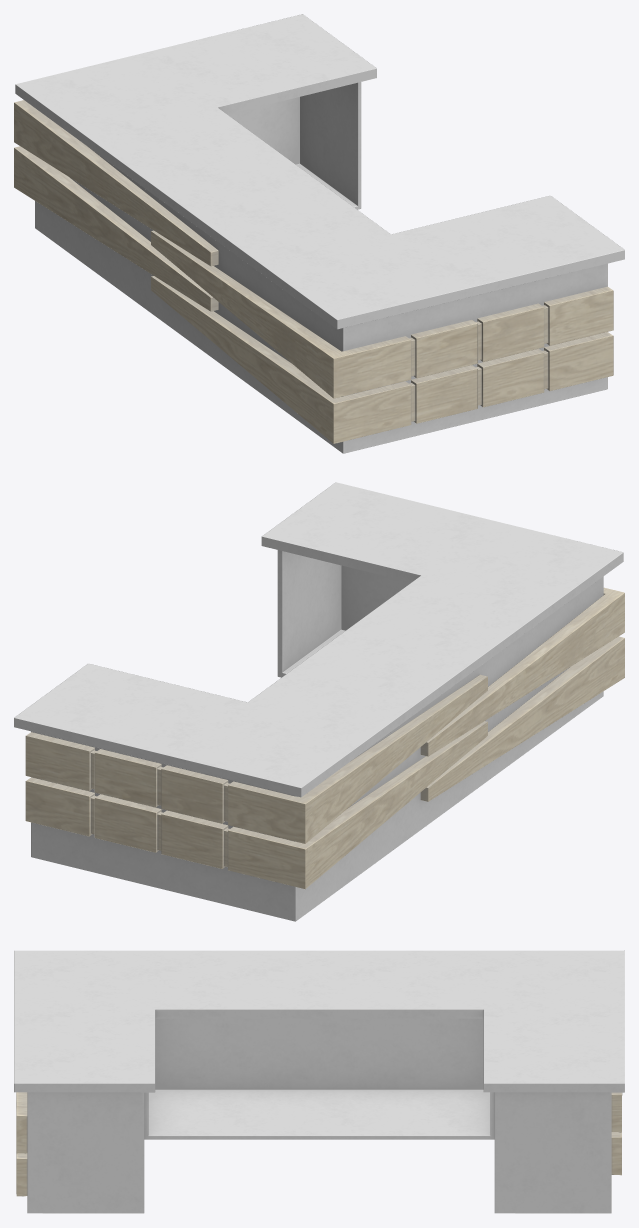
Rendered from SM_ReceptionDeskS.fbx.
3 views of the same model, one above another, from view 1: azimuth 30°, elevation 25°; view 2: azimuth 150°, elevation 25°; view 3: azimuth 270°, elevation 25° (orthographic). The views are drawn at different scales.
Parts seen in each view (by area): view 1: SM_ReceptionDeskS_LOD0; view 2: SM_ReceptionDeskS_LOD0; view 3: SM_ReceptionDeskS_LOD0.
Part boxes in pixels (left/top/right/bottom): SM_ReceptionDeskS_LOD0: left=14, top=14, right=624, bottom=453; SM_ReceptionDeskS_LOD0: left=14, top=482, right=624, bottom=921; SM_ReceptionDeskS_LOD0: left=14, top=950, right=624, bottom=1213.
Size of the model in its own units: 229 by 440 by 107.
Materials: 1 (1 with a texture image).
